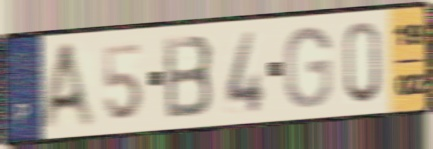0: (342, 20, 383, 107)
4: (223, 28, 266, 116)
5: (100, 41, 145, 123)
A: (37, 38, 101, 130)
B: (161, 32, 216, 123)
G: (282, 23, 334, 111)
